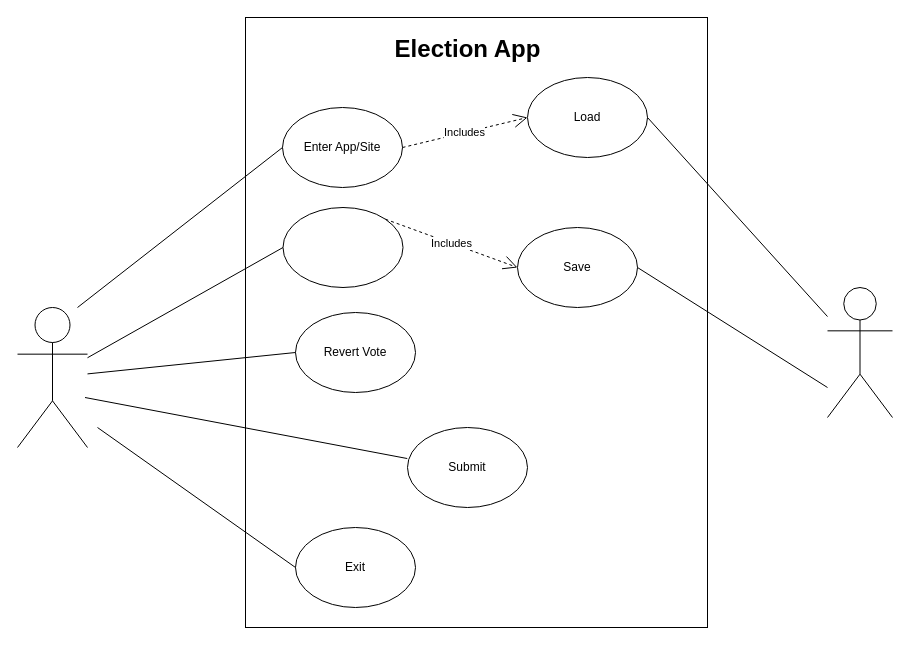
The diagram is 913 pixels wide and 645 high, and some of its shapes have lost their labels. The shapes that lost their labels are listed below. From the top down, each one's centre as x and y in pixels, then its label:
At (x=342, y=247): "Vote".
At (x=859, y=352): "LocalStorage".
At (x=52, y=377): "User".
